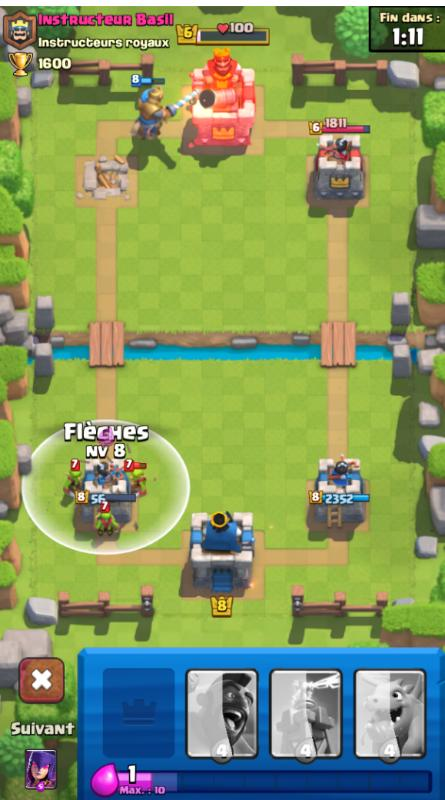gobelin: (124, 459, 148, 496), (94, 502, 118, 535), (65, 459, 83, 496)
